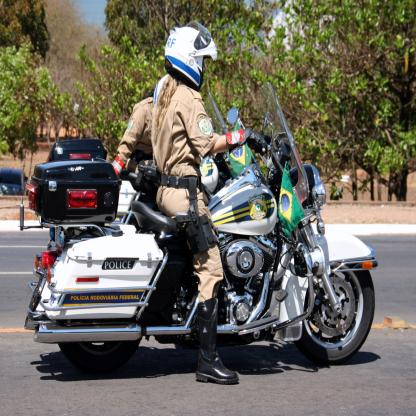Helmet: (164, 18, 218, 91), (152, 74, 169, 107)
